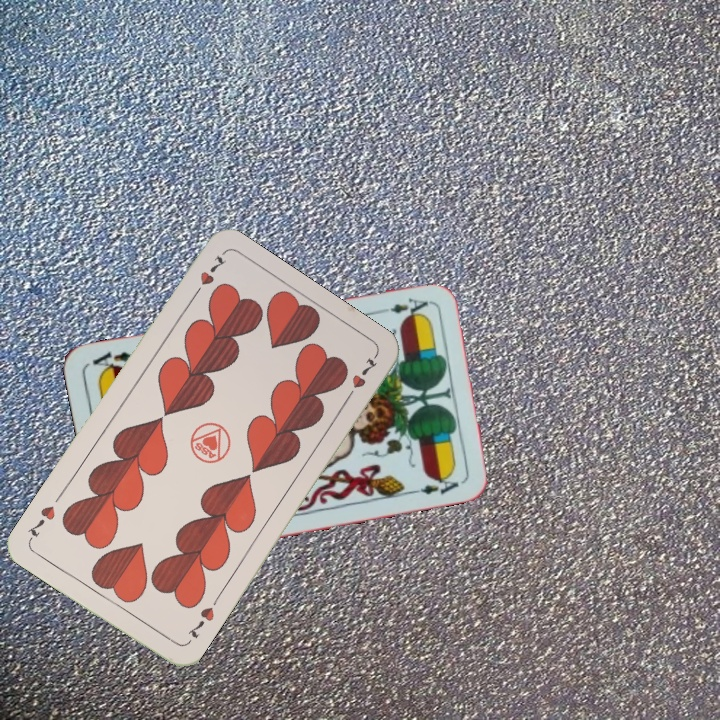EA: (386, 294, 431, 316)
H7: (188, 251, 230, 302), (183, 602, 217, 642)
